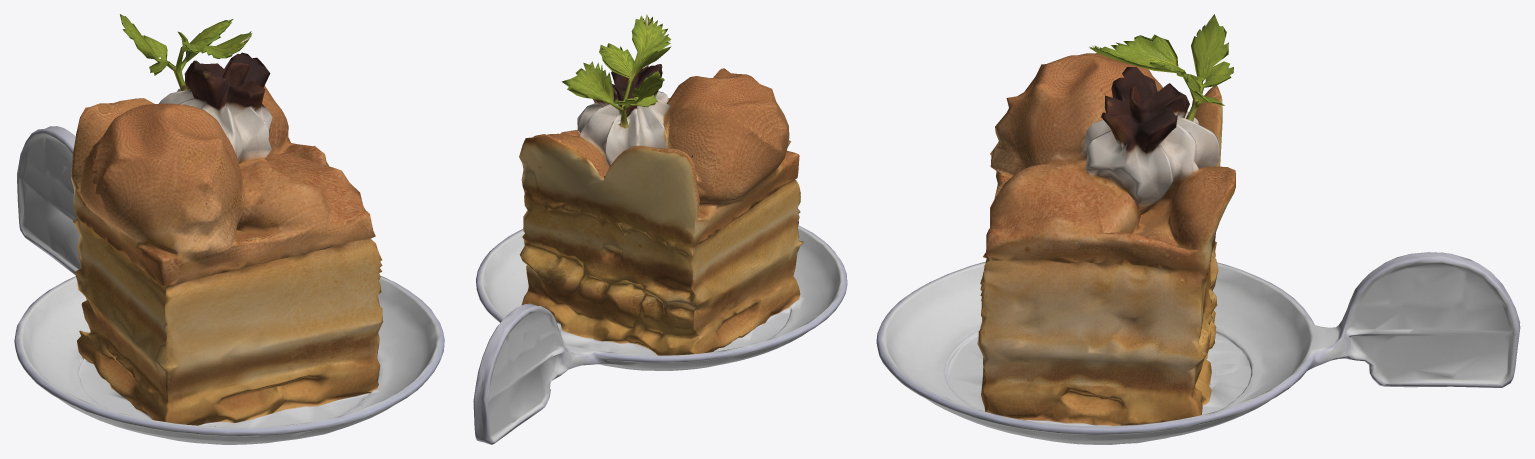
Rendered from cake+slice+3d+model .glb.
3 renders of one model, left to right at view 1: azimuth 30°, elevation 25°; view 2: azimuth 150°, elevation 25°; view 3: azimuth 270°, elevation 25°, orthographic. The views are drawn at different scales.
Parts seen in each view (by area): view 1: tripo_node_a7bf1067-74dc-42d4-b135-9f3809747a80; view 2: tripo_node_a7bf1067-74dc-42d4-b135-9f3809747a80; view 3: tripo_node_a7bf1067-74dc-42d4-b135-9f3809747a80.
Boxes of the visible parts, left/top/right/bottom form: tripo_node_a7bf1067-74dc-42d4-b135-9f3809747a80: left=14, top=14, right=444, bottom=444; tripo_node_a7bf1067-74dc-42d4-b135-9f3809747a80: left=473, top=14, right=847, bottom=444; tripo_node_a7bf1067-74dc-42d4-b135-9f3809747a80: left=876, top=14, right=1520, bottom=444.
Bounding box in the file's own units: 0.6579 × 0.5837 × 0.9794.
1 material, 1 textured.
